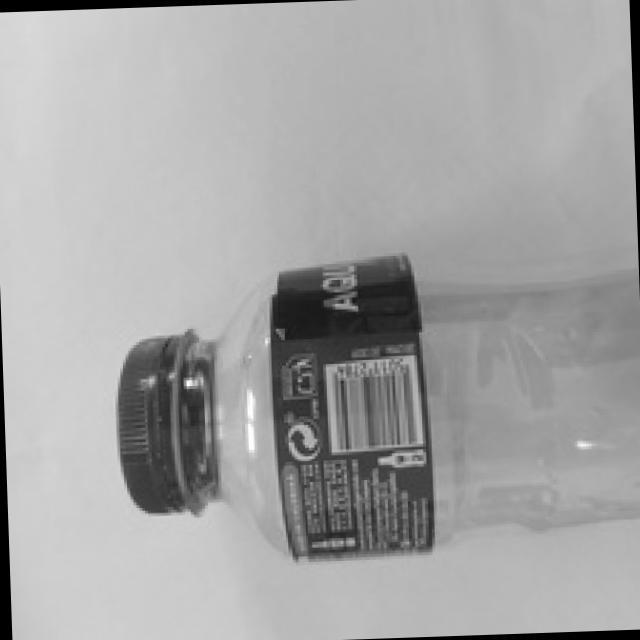good: (103, 248, 640, 572)
